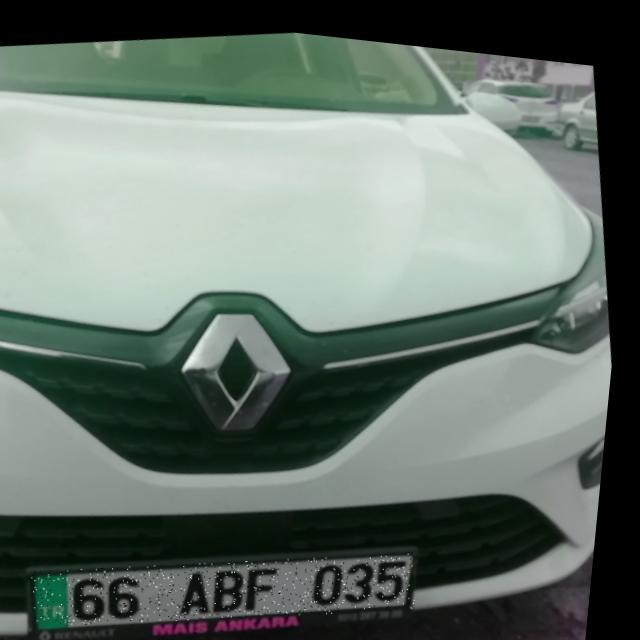license_plate: (39, 509, 431, 640)
